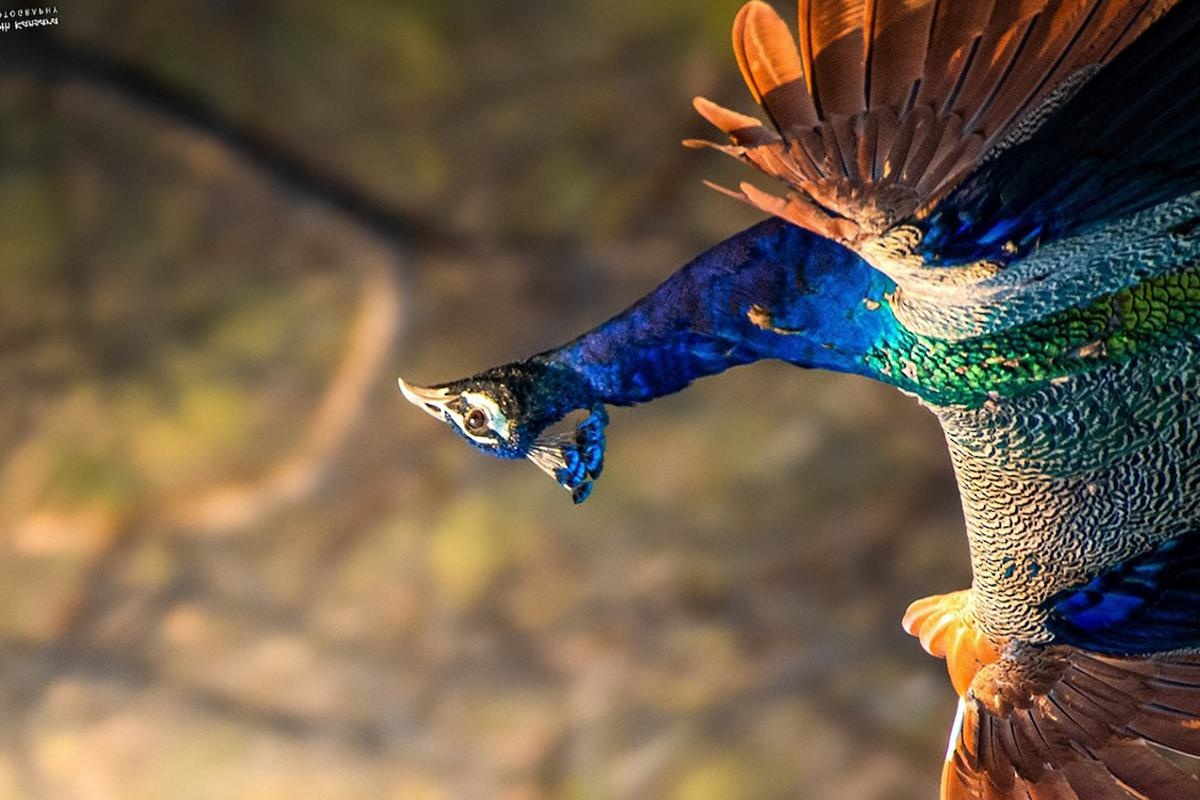peacock: (345, 1, 1200, 605)
